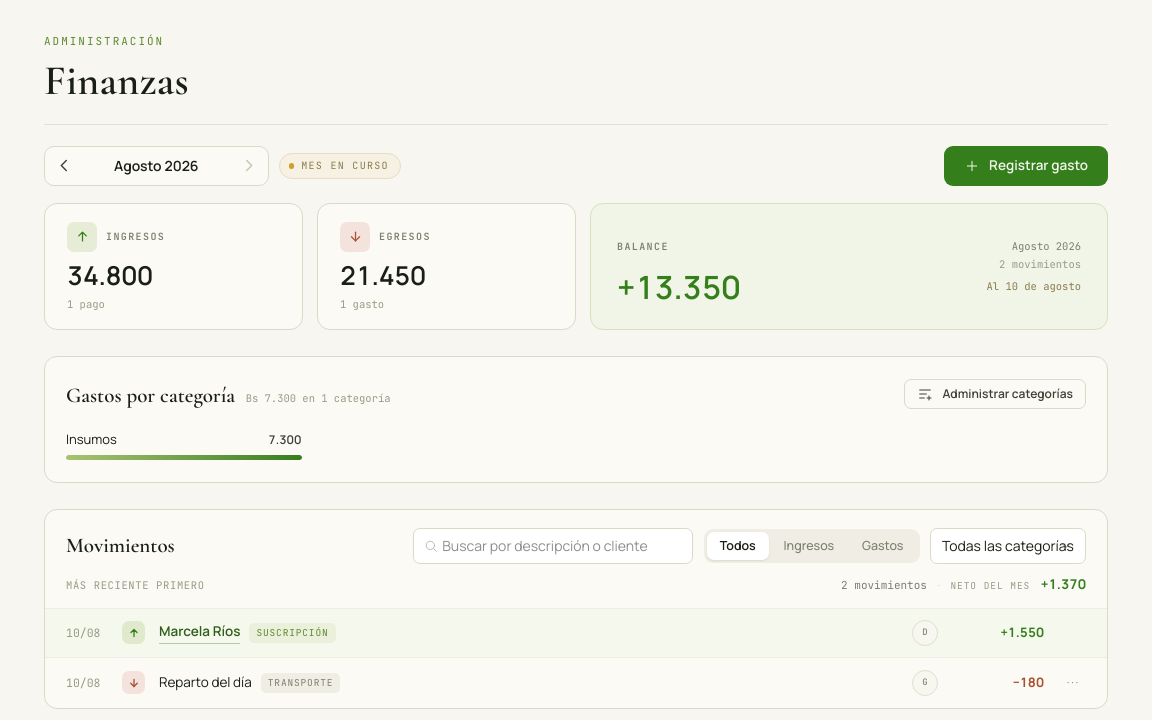
Test: FinancePage › the open-month marker › drops both once a closed month is shown
The width and height of the screenshot is (1152, 720).
Click the button named "mes anterior" at (64, 166), box [50,152,78,180]
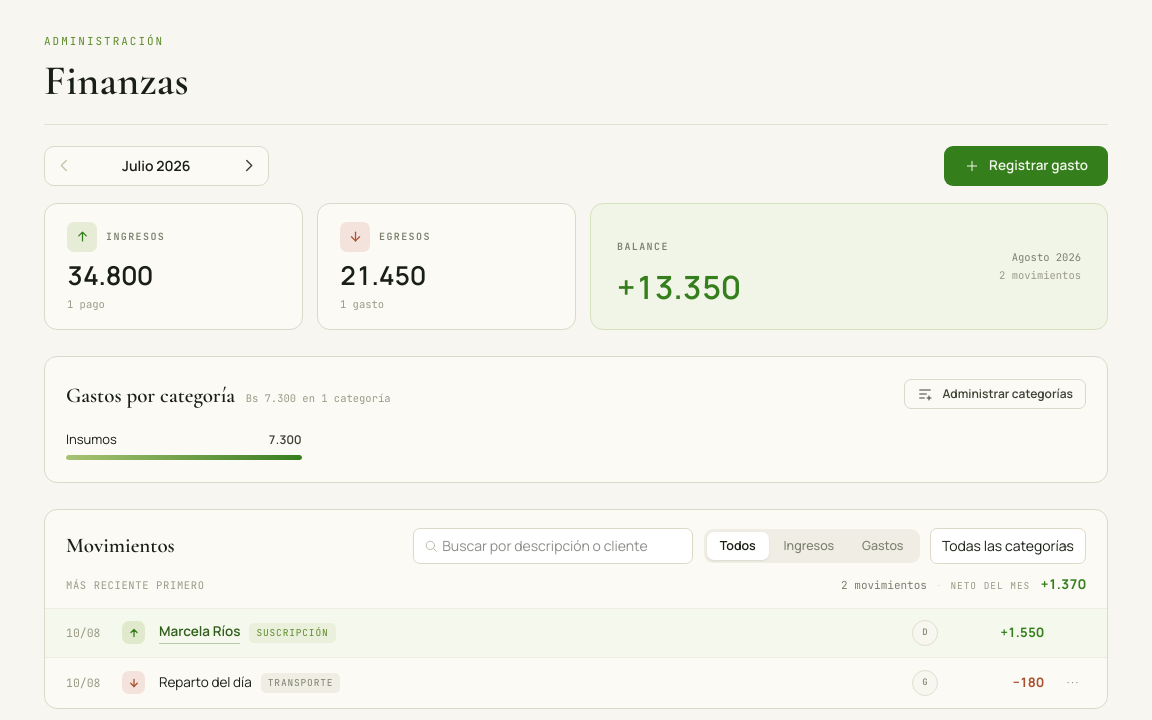
Now the text "Mes en curso" is gone
Now the text "Al " is gone
